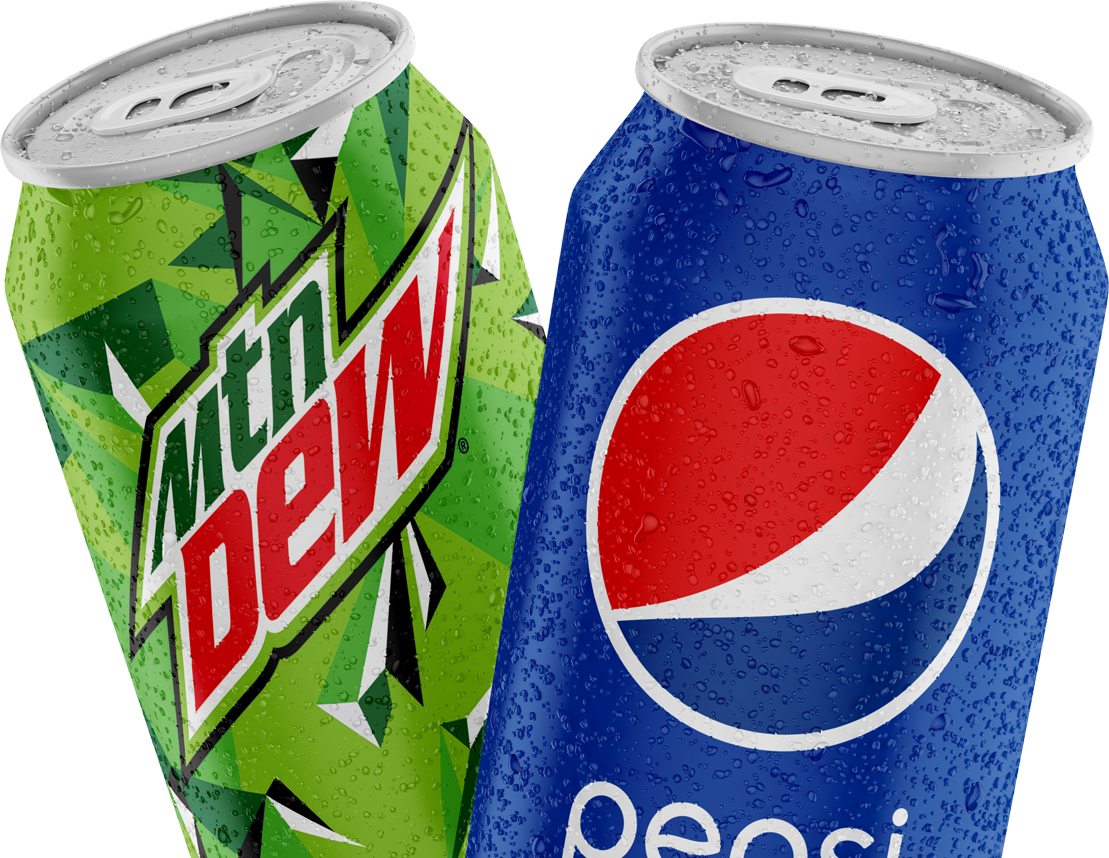pepsi: (588, 291, 1001, 755)
